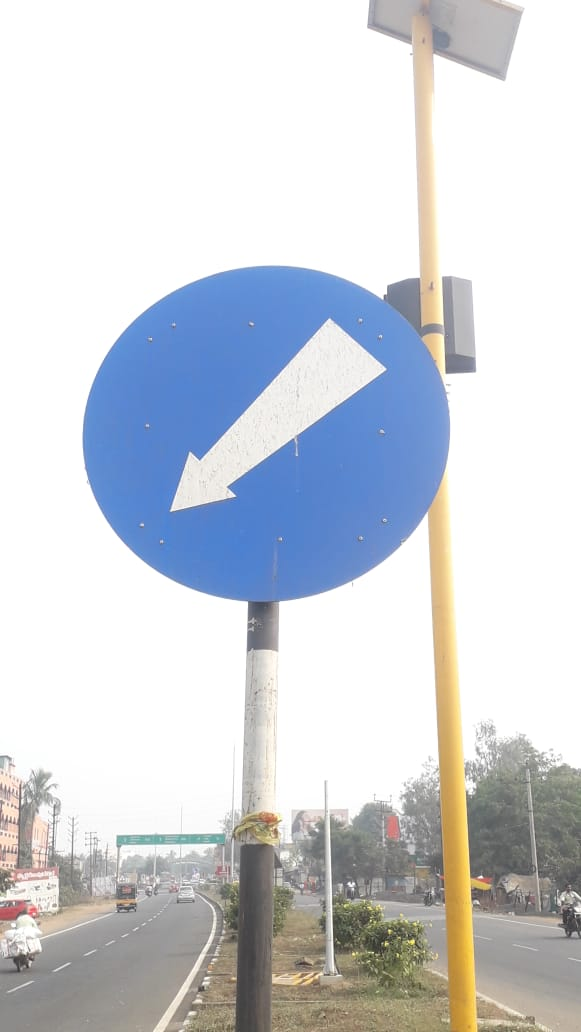go left: (78, 240, 457, 610)
